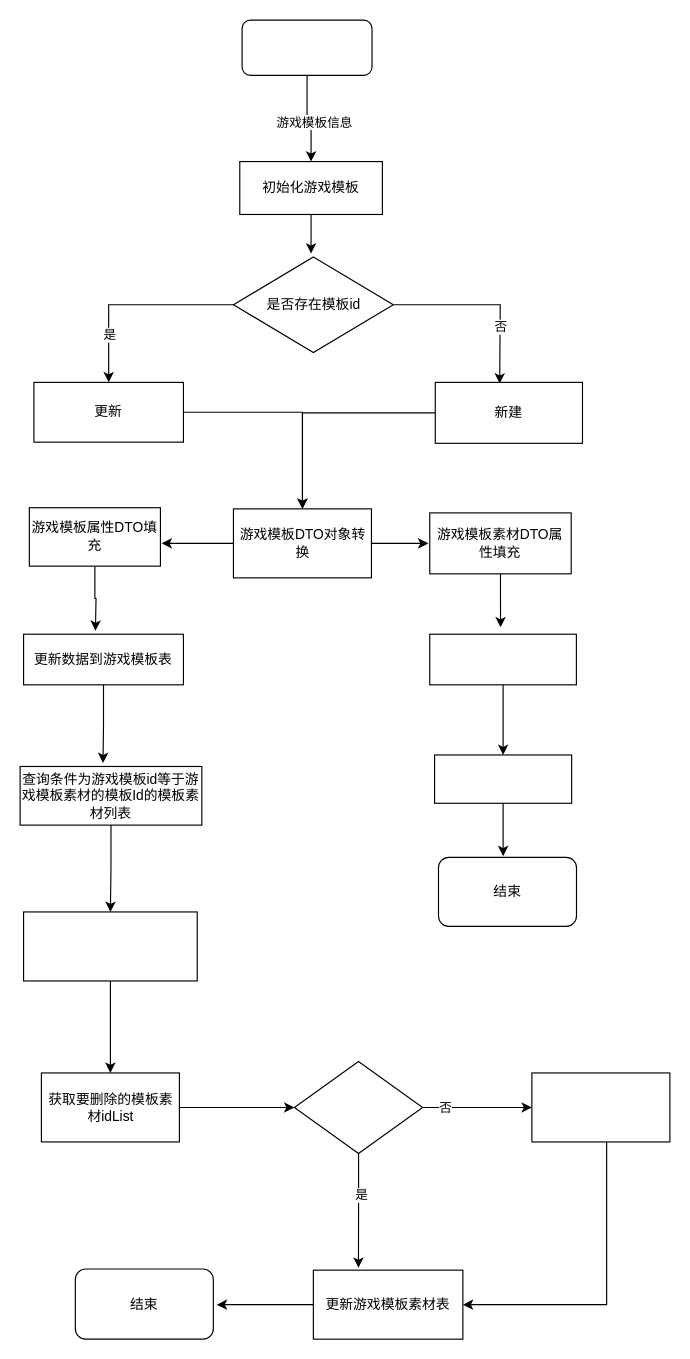
The diagram is 690 pixels wide and 1359 high, and some of its shapes have lost their labels. The centre of each missing label's shape, as x and y in pixels:
"保存数据到游戏模板表" belongs at (502,659).
"列表是否为空" belongs at (358,1106).
"开始" belongs at (306,47).
"批量数据保到游戏模板素材表" belongs at (502,778).
"根据模板素材Id删除游戏模板素材表数据" belongs at (600,1107).
"过滤初始模板素材ID不为空的素材ID列表" belongs at (109,946).
